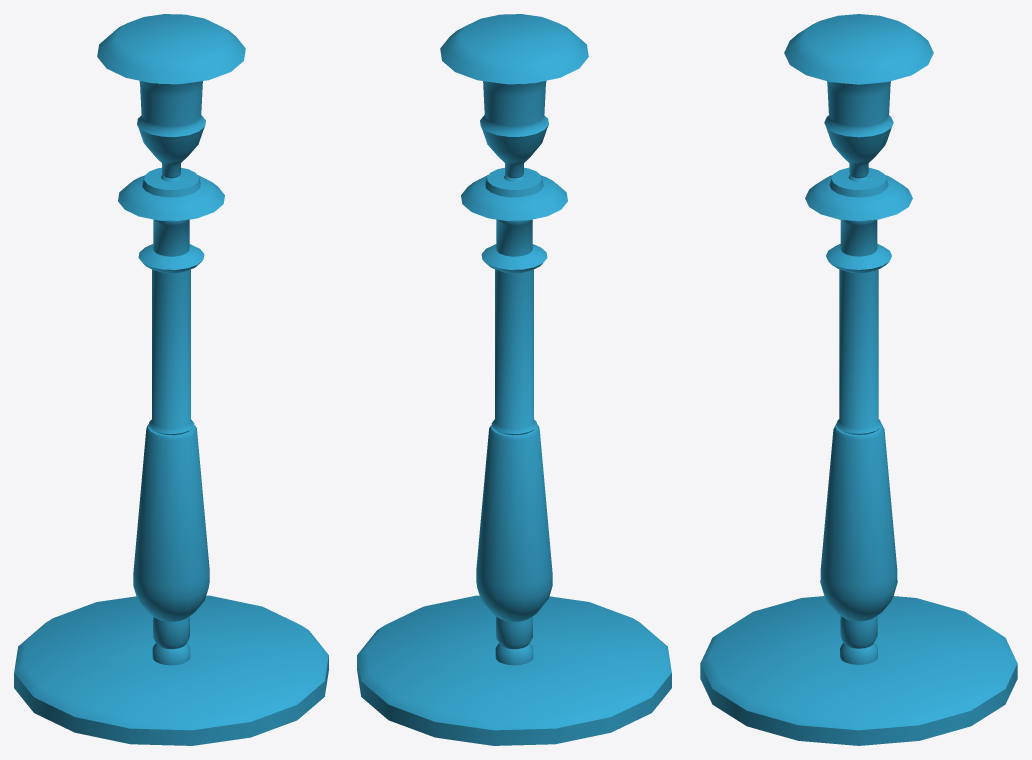
The model's file is candlestick_low.fbx.
The picture shows the model from 3 angles, left to right: view 1: azimuth 30°, elevation 25°; view 2: azimuth 150°, elevation 25°; view 3: azimuth 270°, elevation 25°; orthographic projection.
Parts seen in each view (by area): view 1: candlestick; view 2: candlestick; view 3: candlestick.
Boxes of the visible parts, box(x1,y1,x2,y2) form: candlestick: box(14, 14, 328, 745); candlestick: box(357, 14, 671, 745); candlestick: box(700, 14, 1017, 745).
Size of the model in its own units: 12.25 by 27.35 by 12.25.
